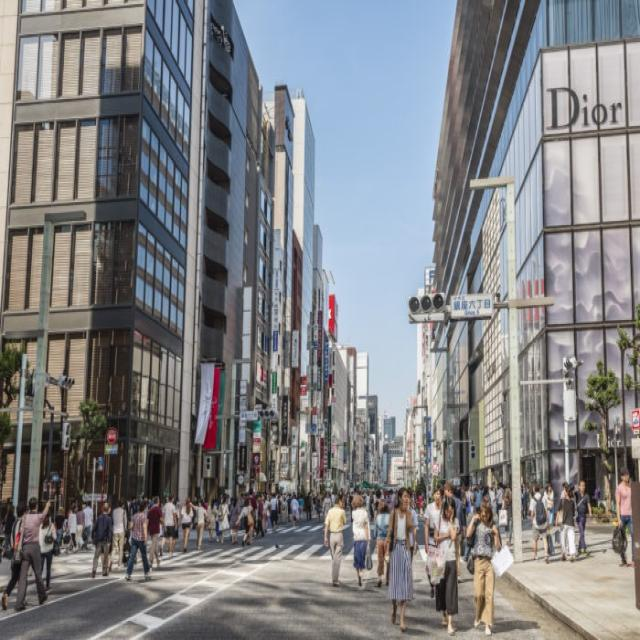body: (464, 492, 515, 637), (384, 482, 415, 634), (14, 495, 53, 613), (433, 495, 462, 636), (405, 613, 540, 639), (1, 499, 28, 612), (423, 484, 446, 601), (610, 464, 634, 570), (443, 478, 467, 584), (523, 534, 613, 562), (348, 491, 373, 588), (322, 491, 347, 587), (124, 500, 153, 582), (528, 481, 552, 564), (555, 486, 577, 566), (90, 500, 112, 579), (38, 508, 58, 594), (572, 479, 594, 557), (146, 495, 168, 572), (109, 496, 128, 571), (496, 486, 516, 546), (159, 491, 178, 554), (189, 496, 208, 552), (235, 496, 255, 548), (407, 488, 420, 563), (0, 503, 16, 558), (179, 496, 194, 553), (244, 485, 257, 541), (216, 495, 230, 545), (228, 495, 241, 545), (66, 504, 78, 554), (206, 497, 219, 542), (74, 501, 85, 554), (170, 498, 180, 554), (82, 500, 94, 545), (337, 485, 375, 499), (546, 481, 557, 529), (54, 504, 66, 546), (492, 482, 504, 520), (268, 491, 279, 531), (128, 495, 151, 514), (255, 492, 264, 540), (472, 483, 483, 518), (289, 493, 299, 528), (520, 478, 528, 520), (488, 480, 498, 513), (304, 490, 314, 522), (322, 489, 333, 518), (373, 496, 387, 517), (261, 494, 268, 534), (374, 488, 383, 517), (314, 490, 322, 520), (297, 494, 305, 522), (286, 491, 293, 522), (415, 491, 423, 516), (280, 491, 287, 512), (227, 496, 235, 513), (479, 478, 488, 491), (159, 494, 168, 504), (293, 490, 298, 498)
